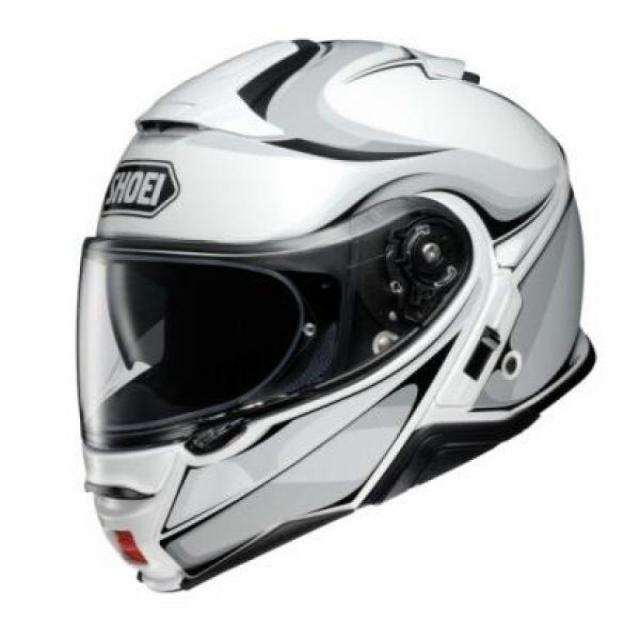Helmet: (77, 38, 599, 574)
